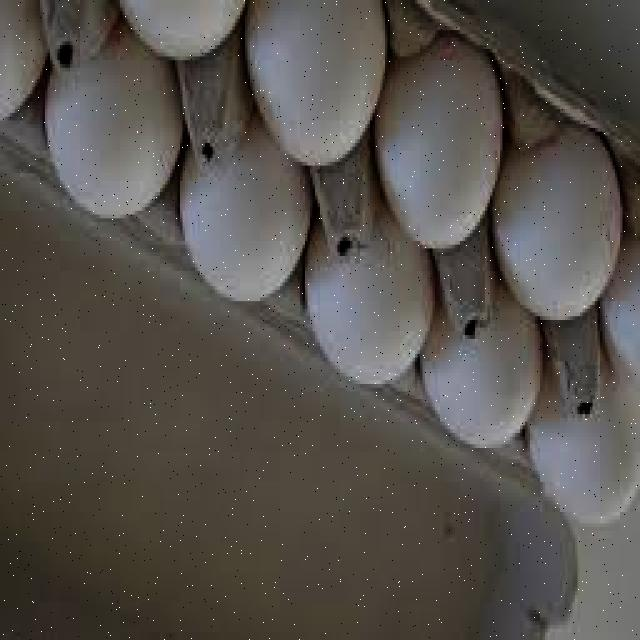White Egg: (373, 8, 508, 262), (494, 113, 626, 327), (247, 0, 395, 188), (46, 46, 184, 231), (178, 136, 314, 312), (307, 216, 437, 397), (425, 279, 547, 451), (528, 362, 640, 531), (110, 0, 255, 72)
